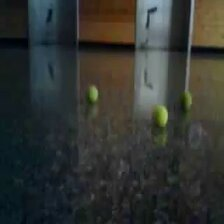tennis: (152, 106, 168, 130), (86, 84, 99, 105), (180, 93, 191, 113)
